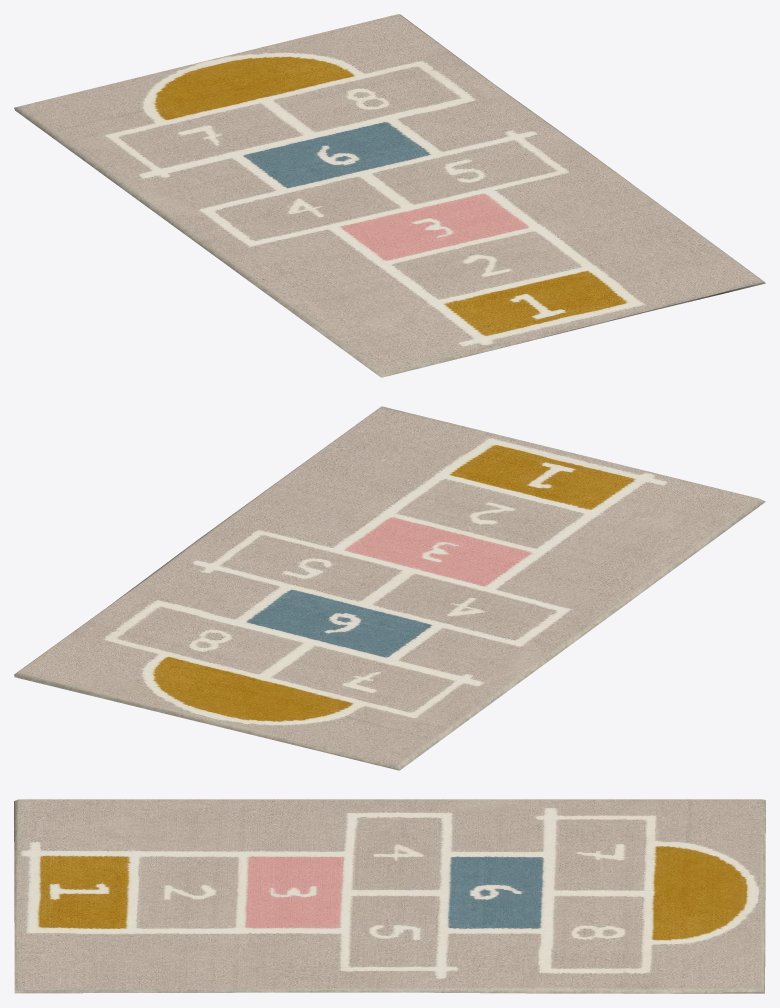
3 views of the same model, one above another, from view 1: azimuth 30°, elevation 25°; view 2: azimuth 150°, elevation 25°; view 3: azimuth 270°, elevation 25° (orthographic). The views are drawn at different scales.
Parts seen in each view (by area): view 1: ASY_ART_60603026_S01_NV01; view 2: ASY_ART_60603026_S01_NV01; view 3: ASY_ART_60603026_S01_NV01.
Boxes of the visible parts, <box> form: ASY_ART_60603026_S01_NV01: <box>14,14,765,377</box>; ASY_ART_60603026_S01_NV01: <box>14,406,765,770</box>; ASY_ART_60603026_S01_NV01: <box>14,799,765,993</box>.
Bounding box in the file's own units: 0.9927 × 0.0118 × 1.64.
1 material, 1 textured.
